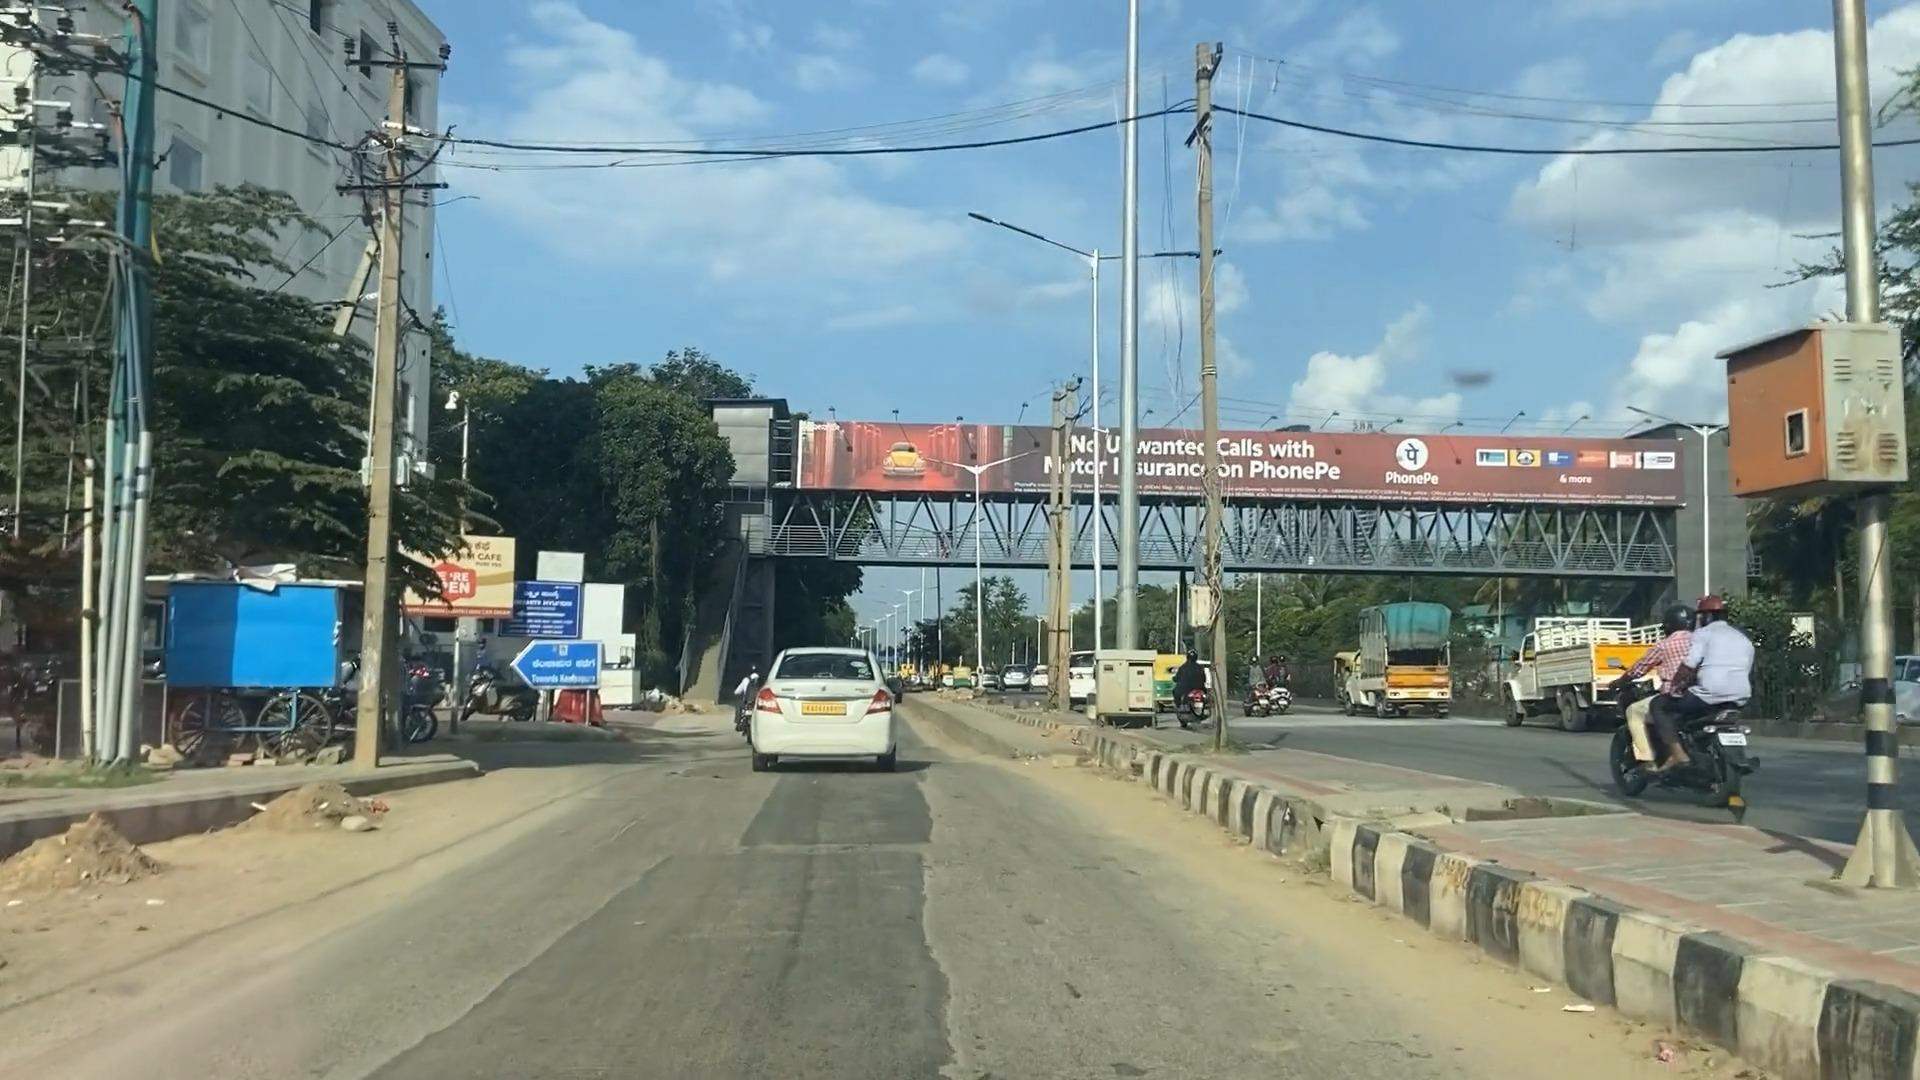LMV: (741, 634, 906, 774)
UnsurfacedRoad: (572, 812, 945, 901)
